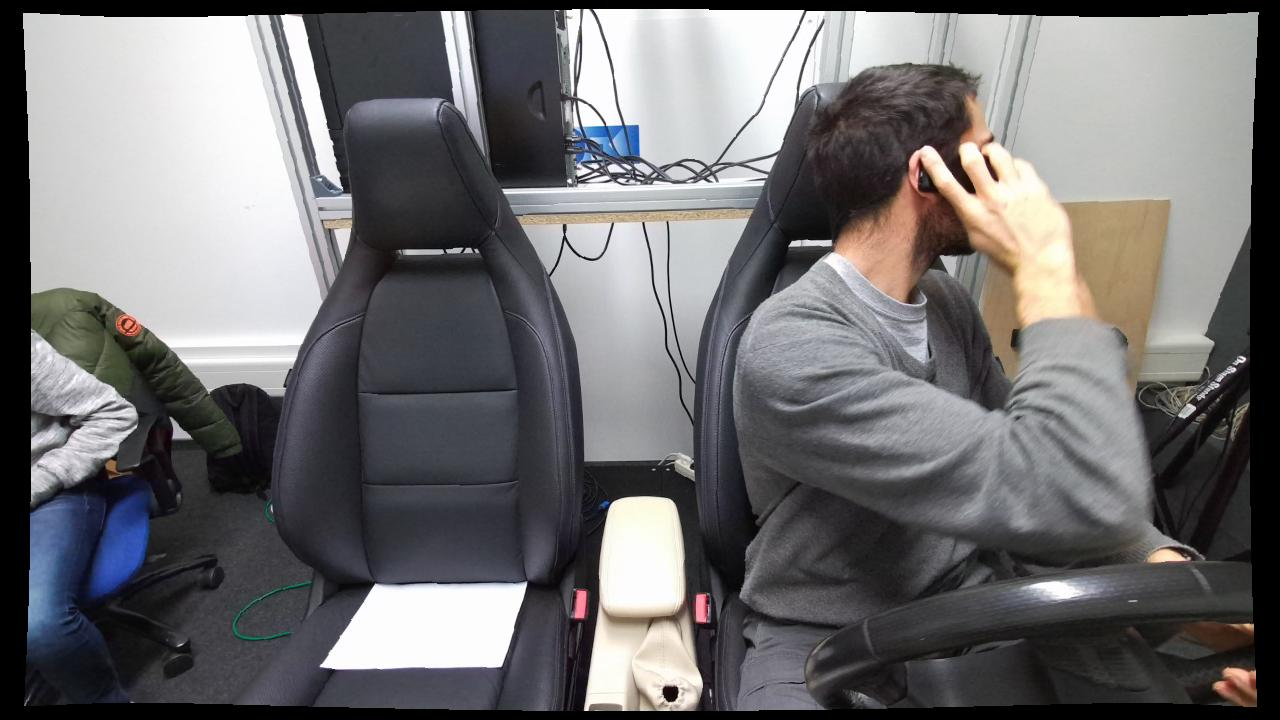Distracted: (727, 58, 1166, 720), (729, 58, 1155, 720)
PhoneUse: (867, 107, 1027, 249)
